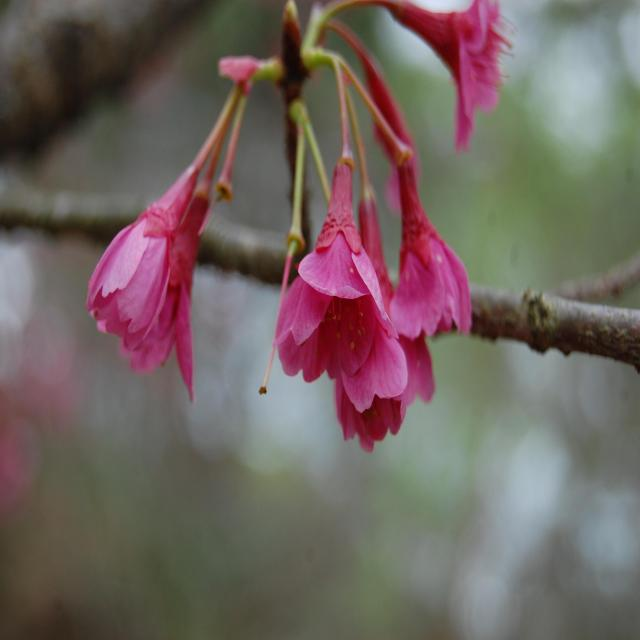organic waste: (272, 71, 412, 416), (375, 104, 481, 348), (90, 189, 203, 390)
